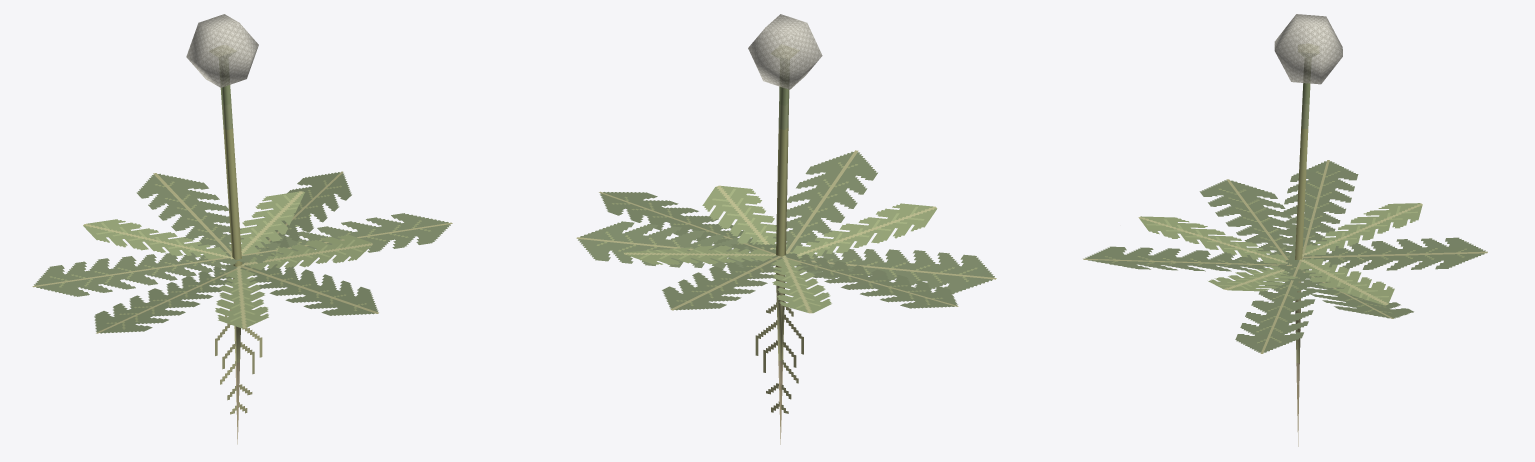
File: 04dd_Fluff.glb
3 views of the same model, side by side, from view 1: azimuth 30°, elevation 25°; view 2: azimuth 150°, elevation 25°; view 3: azimuth 270°, elevation 25° (orthographic). The views are drawn at different scales.
Visible parts, largest first — view 1: part_0; view 2: part_0; view 3: part_0.
Boxes of the visible parts, x1=… form: part_0: x1=32, y1=14, x2=452, y2=444; part_0: x1=576, y1=14, x2=996, y2=444; part_0: x1=1083, y1=14, x2=1487, y2=446.
Size of the model in its own units: 0.3317 by 0.3005 by 0.3049.
Materials: 1 (1 with a texture image).
